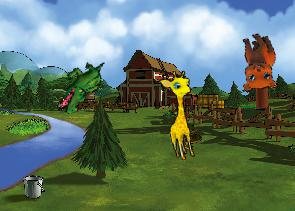bear: (228, 29, 284, 96)
crocodile: (55, 53, 106, 120)
giraffe: (157, 68, 206, 162)
